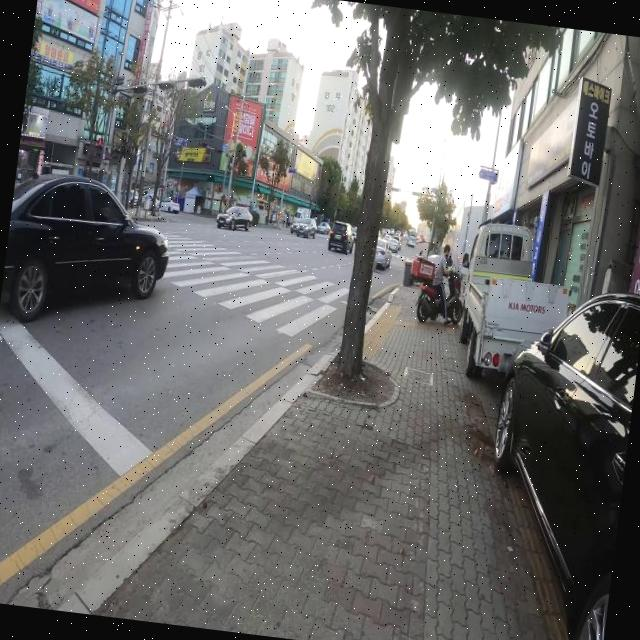crosswalk: (155, 229, 371, 342)
